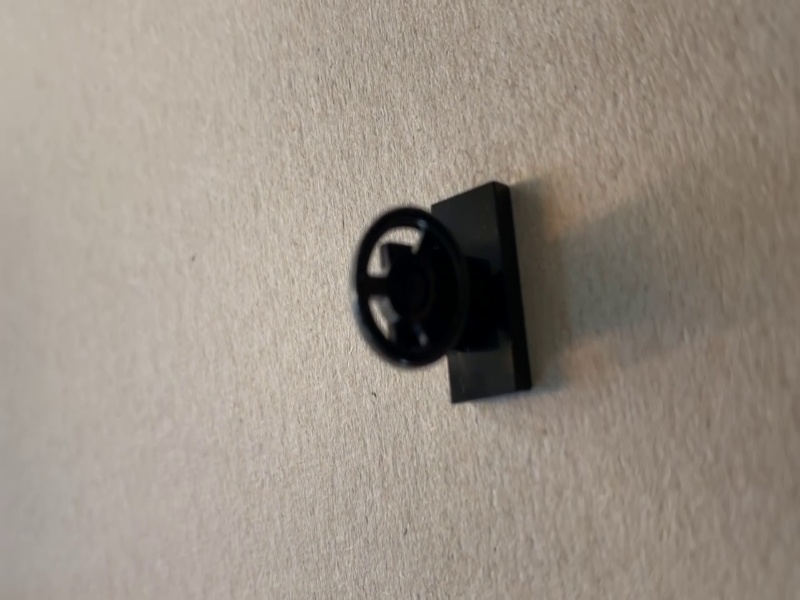steering wheel: (353, 181, 535, 405)
